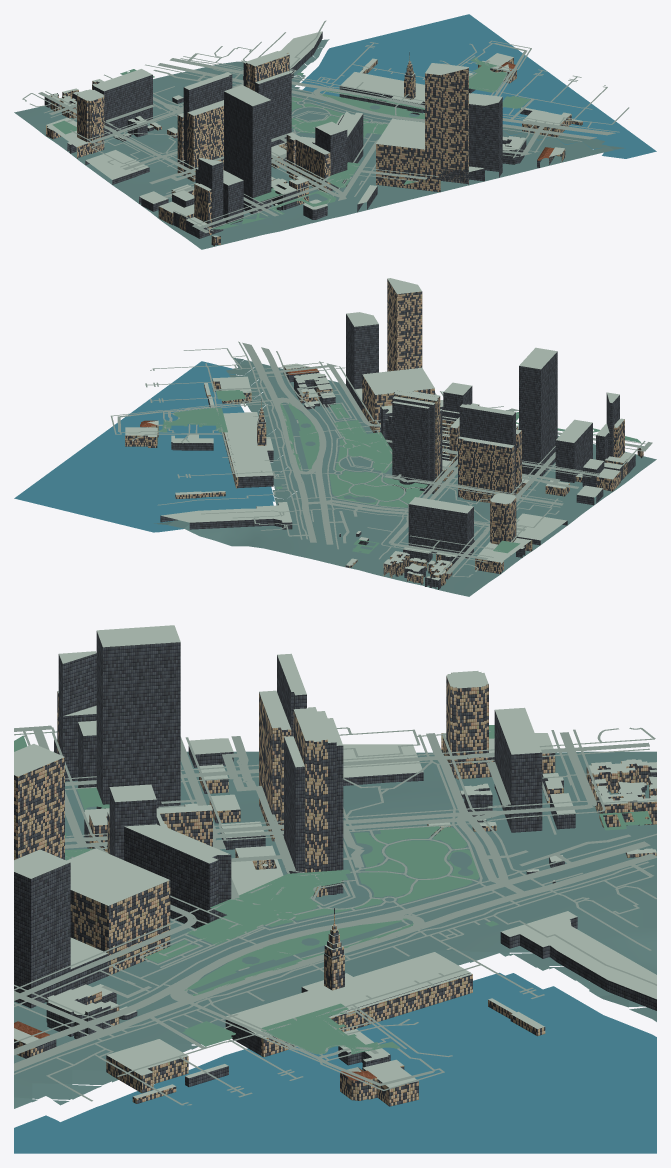
The model's file is bay-area.glb.
The picture shows the model from 3 angles, top to bottom: view 1: azimuth 30°, elevation 25°; view 2: azimuth 150°, elevation 25°; view 3: azimuth 270°, elevation 25°; orthographic projection. The views are drawn at different scales.
Visible parts, largest first — view 1: buildings-1, terrain-1, shoreline-water, roads-7, vegetation-1, roads-1, roads-6, roads-5, roads-2, roads-3, roads-9; view 2: buildings-1, terrain-1, shoreline-water, roads-7, vegetation-1, roads-6, vegetation-2, roads-1, roads-2, roads-5, roads-4, roads-9; view 3: buildings-1, shoreline-water, terrain-1, roads-7, vegetation-1, roads-6, vegetation-2, roads-1, roads-3, roads-2, roads-5, roads-9 (+1 smaller).
Boxes of the visible parts, bbox=[...] form: buildings-1: bbox=[44, 31, 582, 246]; terrain-1: bbox=[14, 39, 625, 249]; shoreline-water: bbox=[301, 14, 656, 158]; roads-7: bbox=[22, 20, 629, 231]; vegetation-1: bbox=[52, 57, 530, 229]; roads-1: bbox=[123, 83, 545, 232]; roads-6: bbox=[157, 58, 614, 139]; roads-5: bbox=[89, 97, 531, 157]; roads-2: bbox=[153, 43, 534, 181]; roads-3: bbox=[106, 105, 296, 184]; roads-9: bbox=[180, 58, 615, 133]; buildings-1: bbox=[125, 278, 643, 589]; terrain-1: bbox=[154, 358, 656, 596]; shoreline-water: bbox=[14, 361, 274, 532]; roads-7: bbox=[110, 341, 648, 577]; vegetation-1: bbox=[157, 390, 640, 553]; roads-6: bbox=[244, 343, 333, 544]; vegetation-2: bbox=[329, 403, 427, 507]; roads-1: bbox=[262, 364, 652, 514]; roads-2: bbox=[117, 386, 457, 543]; roads-5: bbox=[326, 363, 525, 543]; roads-4: bbox=[390, 531, 488, 573]; roads-9: bbox=[242, 342, 369, 539]; buildings-1: bbox=[14, 625, 656, 1106]; shoreline-water: bbox=[14, 972, 656, 1153]; terrain-1: bbox=[14, 751, 656, 1108]; roads-7: bbox=[14, 727, 656, 1105]; vegetation-1: bbox=[14, 725, 652, 1054]; roads-6: bbox=[14, 841, 656, 1069]; vegetation-2: bbox=[144, 826, 479, 962]; roads-1: bbox=[14, 725, 526, 1033]; roads-3: bbox=[214, 736, 510, 899]; roads-2: bbox=[94, 799, 653, 1086]; roads-5: bbox=[14, 733, 593, 1000]; roads-9: bbox=[14, 861, 648, 1071].
Bounding box in the file's own units: 700 × 190 × 500.
Materials: 8 (3 with a texture image).
